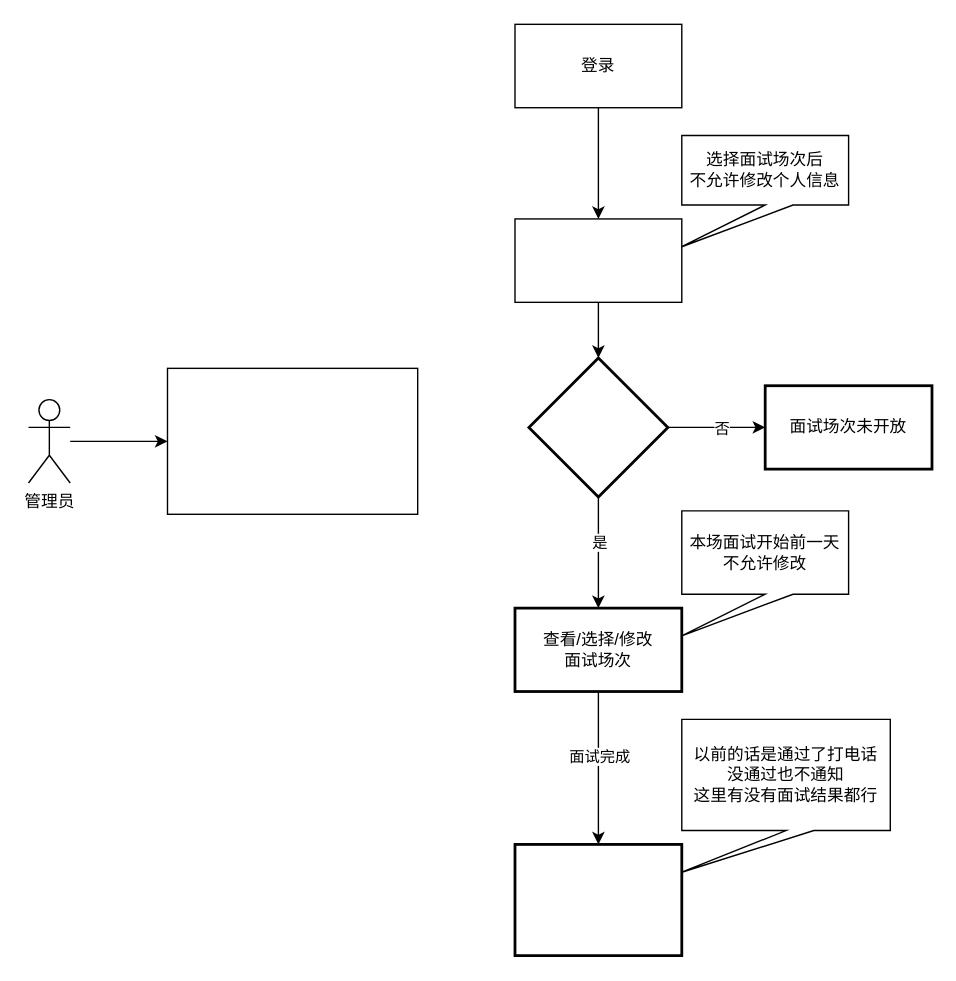
This 956x981 diagram has some shape labels left out. Each missing label, with the centre of its shape:
"1. 设置具体面试场次 2. 设置开放场次时间 3. 导出某场学生信息 4. 设置学生面试结果 （设置结果手动改数据库也行，反正不超过30人）" goes at pixel 292 440.
"提交/修改 报名信息" goes at pixel 598 260.
"查看面试结果： 1. 评审中 2. 已通过 3. 未通过" goes at pixel 597 899.
"管理员 是否已开放 面试场次" goes at pixel 598 427.
